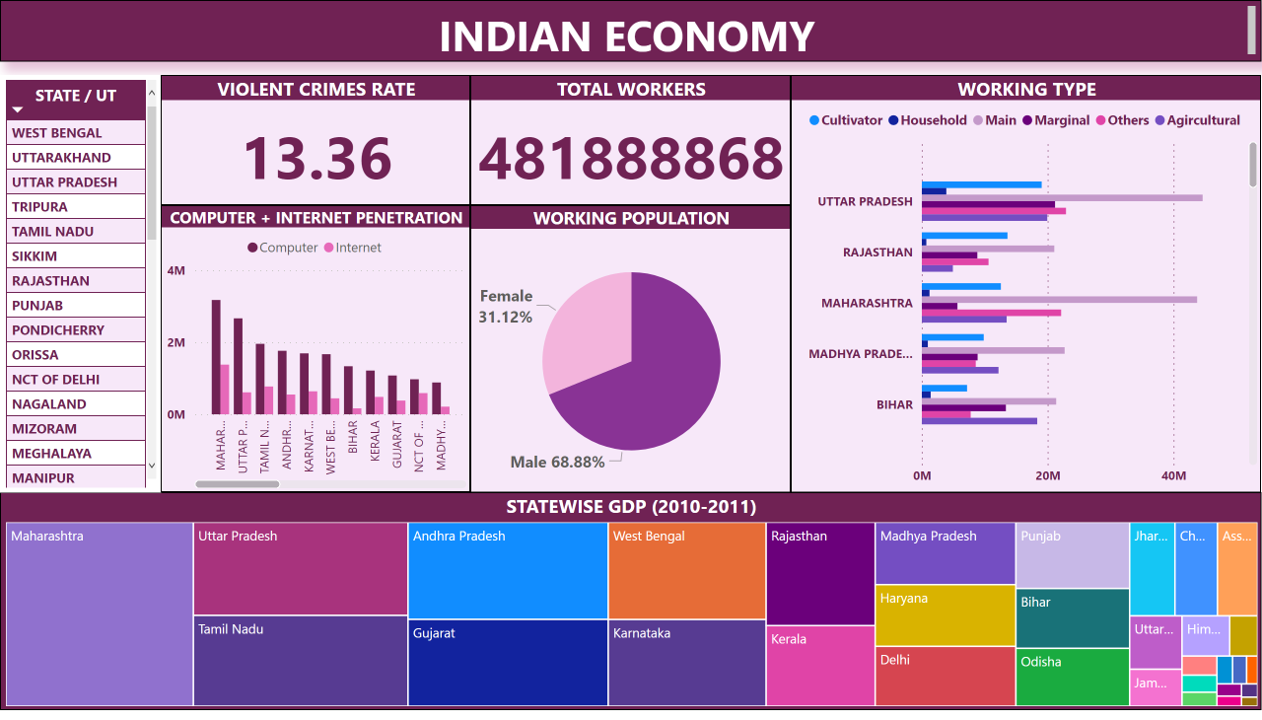

What the dashboard file says about the page in this screenshot:
{"tool":"powerbi","page":{"name":"Economy","canvas":[1280,720],"ordinal":2},"visuals":[{"type":"textbox","box":[0,0,1279.4,62.4],"z":0},{"type":"treemap","title":"STATEWISE GDP (2010-2011)","fields":{"Group":["GDP-statewise.State/union territory"],"Values":["Sum(GDP-statewise.GDP 2010-2011)"]},"box":[0,498.9,1279.4,221.1],"z":1000},{"type":"pieChart","title":"WORKING POPULATION","fields":{"Y":["Sum(india-districts-census-2011.Male_Workers)","Sum(india-districts-census-2011.Female_Workers)"]},"box":[477.2,208,325,291.5],"z":2000},{"type":"card","title":"TOTAL WORKERS","fields":{"Values":["Sum(india-districts-census-2011.Workers)"]},"box":[477.2,76.1,325,131.8],"z":3000},{"type":"clusteredBarChart","title":"WORKING TYPE","fields":{"Category":["india-districts-census-2011.State name"],"Y":["Sum(india-districts-census-2011.Cultivator_Workers)","Sum(india-districts-census-2011.Household_Workers)","Sum(india-districts-census-2011.Main_Workers)","Sum(india-districts-census-2011.Marginal_Workers)","Sum(india-districts-census-2011.Other_Workers)","Sum(india-districts-census-2011.Agricultural_Workers)"]},"box":[802.2,76.1,477.2,423.4],"z":4000},{"type":"tableEx","fields":{"Values":["india-districts-census-2011.State name"]},"box":[0,76.1,163.4,423.4],"z":5000},{"type":"card","title":"VIOLENT CRIMES RATE","fields":{"Values":["Avg(Violent crime rate.% share of violent crimes to total IPC)"]},"box":[163.4,76.1,313.8,131.8],"z":6000},{"type":"clusteredColumnChart","title":"COMPUTER + INTERNET PENETRATION","fields":{"Category":["india-districts-census-2011.State name"],"Y":["Sum(india-districts-census-2011.Households_with_Computer)","Sum(india-districts-census-2011.Households_with_Internet)"]},"box":[163,208,314,291],"z":7000}]}

Visuals, with their boxes in screenshot pixels (x1, y1, x2, y2), scaled from the page's 1280x720 canvas onto the 1262x720 screenshot:
textbox: bbox=(0, 0, 1261, 62)
"STATEWISE GDP (2010-2011)" treemap: bbox=(0, 499, 1261, 719)
"WORKING POPULATION" pieChart: bbox=(470, 208, 791, 500)
"TOTAL WORKERS" card: bbox=(470, 76, 791, 208)
"WORKING TYPE" clusteredBarChart: bbox=(791, 76, 1261, 500)
tableEx - india-districts-census-2011.State name: bbox=(0, 76, 161, 500)
"VIOLENT CRIMES RATE" card: bbox=(161, 76, 470, 208)
"COMPUTER + INTERNET PENETRATION" clusteredColumnChart: bbox=(161, 208, 470, 499)
